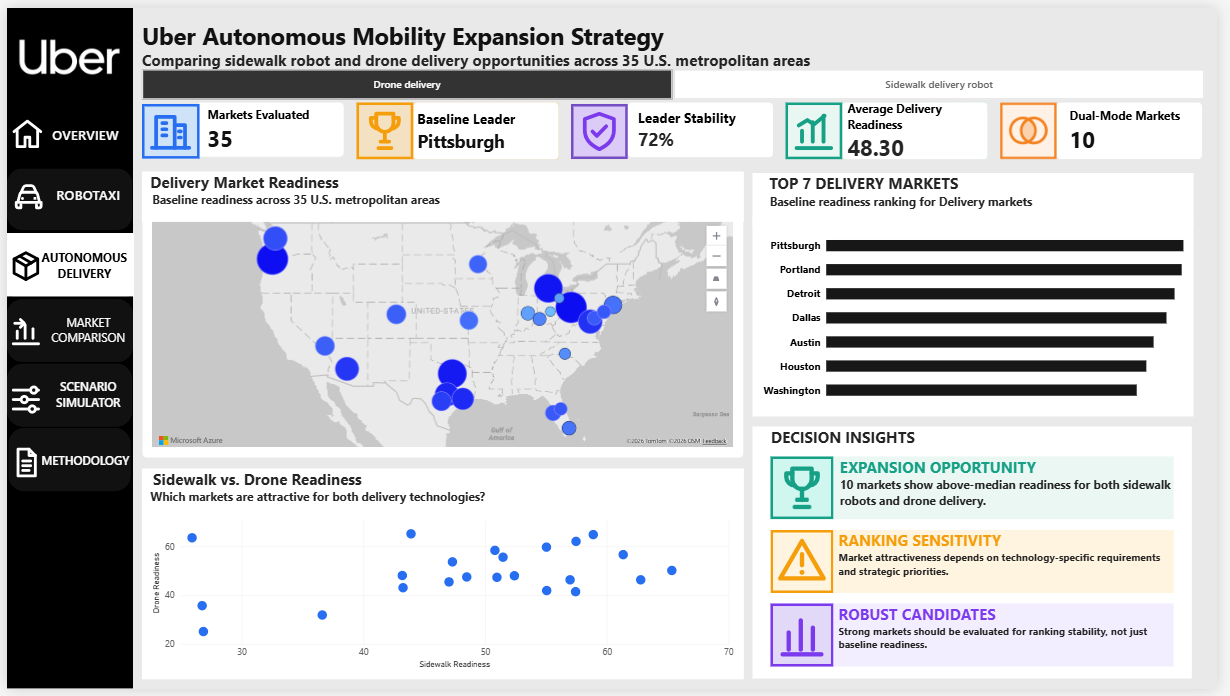

This screenshot's page, from the dashboard's own definition file:
{"tool":"powerbi","page":{"name":"Autonomous Delivery","canvas":[1920,1080],"ordinal":2},"visuals":[{"type":"shape","box":[0,150,198.7,100.8],"z":0},{"type":"image","box":[895,152.5,90.1,87.5],"z":0,"group":"g12"},{"type":"shape","box":[0,255,198.8,97.7],"z":0,"group":"g15"},{"type":"textbox","box":[1182.5,262.5,700,84.9],"z":0,"group":"g14"},{"type":"shape","box":[0,462.5,200,100],"z":0,"group":"g7"},{"type":"shape","box":[0,565,198.7,100.4],"z":0,"group":"g8"},{"type":"textbox","box":[1182.5,665,697.5,400],"z":0,"group":"g18"},{"type":"shape","box":[2.5,667.5,193.9,100.4],"z":0,"group":"g9"},{"type":"group","id":"g1","title":"Group 12","box":[1210,712.2,100,99.4],"z":0,"group":"g2"},{"type":"image","box":[1210,830,100,100],"z":0,"group":"g3"},{"type":"shape","box":[0,0,200,1080],"z":1000},{"type":"cardVisual","fields":{"Data":["_Measures.Robust Leader Top 5 Frequency"]},"box":[984.6,150,230.4,87.5],"z":1000,"group":"g12"},{"type":"cardVisual","fields":{"Data":["_Measures.Average Delivery Readiness"]},"box":[1325,150,230,90],"z":1000,"group":"g13"},{"type":"clusteredBarChart","fields":{"Category":["PBI_DIM_MARKET.MARKET_SHORT_NAME"],"Y":["_Measures.Selected Baseline Score"]},"box":[1182.5,330.4,700,317.1],"z":1000,"group":"g14"},{"type":"shape","box":[0,357.5,201.3,100.4],"z":1000,"group":"g16"},{"type":"group","id":"g2","title":"Group 13","box":[1210,712.2,640,99.4],"z":1000,"group":"g18"},{"type":"textbox","box":[1310,712.2,540,99.4],"z":1000,"group":"g2"},{"type":"textbox","box":[1310,830,540,100],"z":1000,"group":"g3"},{"type":"image","box":[1210,712.2,100,99.4],"z":2000,"group":"g1"},{"type":"textbox","box":[215,730,955,65],"z":2000},{"type":"group","id":"g3","title":"Group 14","box":[1210,830,640,100],"z":2000,"group":"g18"},{"type":"textbox","box":[215,0,1340,95],"z":3000},{"type":"image","box":[4.9,252.5,59.3,90],"z":3000,"group":"g15"},{"type":"group","id":"g4","title":"Group 19","box":[1210,945,640,100],"z":3000,"group":"g18"},{"type":"group","id":"g5","title":"Group 11","box":[955,147.5,845,66.7],"z":4000},{"type":"textbox","box":[215,47.5,1500,72.5],"z":5000},{"type":"cardVisual","fields":{"Data":["_Measures.Markets Evaluated"]},"box":[302.3,150,232.7,86.5],"z":5000,"group":"g20"},{"type":"cardVisual","fields":{"Data":["_Measures.Cross-Mode Opportunity"]},"box":[1666.2,150,230,90],"z":6000,"group":"g19"},{"type":"actionButton","box":[528.9,447.9,200,100],"z":6000},{"type":"slicer","fields":{"Values":["PBI_DIM_MODE.MODE_NAME"]},"box":[192.9,95.3,1727.1,52.2],"z":7000},{"type":"cardVisual","fields":{"Data":["_Measures.Robust Leader"]},"box":[645,150,230,90],"z":7000,"group":"g21"},{"type":"image","box":[0,0,200,165.6],"z":8000},{"type":"group","id":"g6","title":"Group 10","box":[1210,945,100,100],"z":8000,"group":"g4"},{"type":"actionButton","box":[0,145,200,100],"z":9000},{"type":"group","id":"g7","title":"Group 5","box":[0,462.5,200,100],"z":10000},{"type":"azureMap","fields":{"Size":["_Measures.Top 5 Frequency"],"X":["PBI_DIM_MARKET.LONGITUDE"],"Y":["PBI_DIM_MARKET.LATITUDE"]},"box":[215,320,955,395],"z":11000,"group":"g22"},{"type":"group","id":"g8","title":"Group 6","box":[0,565,198.7,102.4],"z":11000},{"type":"textbox","box":[215,260,955,80],"z":12000,"group":"g22"},{"type":"group","id":"g9","title":"Group 7","box":[0,667.5,202.5,100.4],"z":12000},{"type":"actionButton","box":[0,280,198.4,93.5],"z":13000},{"type":"actionButton","box":[0,372.5,198.4,93.5],"z":14000},{"type":"actionButton","box":[0,665,197.5,102.5],"z":15000},{"type":"actionButton","box":[0,567.5,199.7,95.3],"z":16000},{"type":"textbox","box":[60,185,130.4,37.8],"z":17000},{"type":"actionButton","box":[0,470,197.4,90.8],"z":18000},{"type":"group","id":"g10","title":"Group 15","box":[215,150,320,90],"z":19000},{"type":"group","id":"g11","title":"Group 17","box":[555,150,320,90],"z":20000},{"type":"textbox","box":[59.5,281.9,138.9,41.8],"z":20000,"group":"g15"},{"type":"textbox","box":[59.5,485.2,138.9,51],"z":20000,"group":"g7"},{"type":"textbox","box":[59.5,589.5,138.9,55.2],"z":20000,"group":"g8"},{"type":"textbox","box":[45,706.3,157.5,35],"z":20000,"group":"g9"},{"type":"group","id":"g12","title":"Group 18","box":[895,150,320,90],"z":21000},{"type":"textbox","box":[53.2,383.2,140.7,55.2],"z":21000,"group":"g16"},{"type":"image","box":[0,471,60,90],"z":21005,"group":"g7"},{"type":"image","box":[2.5,155,60,90],"z":22000},{"type":"group","id":"g13","title":"Group 1","box":[1235,150,320,90],"z":23000},{"type":"image","box":[1.2,577.4,60,90],"z":23001,"group":"g8"},{"type":"image","box":[0,676.3,60,90],"z":23001,"group":"g9"},{"type":"group","id":"g14","title":"Group 8","box":[1182.5,262.5,700,385],"z":24000},{"type":"scatterChart","fields":{"Category":["PBI_DIM_MARKET.MARKET_SHORT_NAME"],"X":["_Measures.Sidewalk Readiness"],"Y":["_Measures.Drone Readiness"]},"box":[215,792.5,955,272.5],"z":25000},{"type":"group","id":"g15","title":"Group 4","box":[0,252.5,200,100],"z":26000},{"type":"group","id":"g16","title":"Group 3","box":[0,357.5,201.3,100.4],"z":27000},{"type":"group","id":"g17","title":"Group 2","box":[215,260,955,455],"z":28000},{"type":"group","id":"g18","title":"Group 22","box":[1182.5,665,697.5,400],"z":29000},{"type":"group","id":"g19","title":"Group 16","box":[1575,150,321.2,90],"z":30000},{"type":"actionButton","box":[0,254.8,200,92.9],"z":30001},{"type":"image","box":[215,153.5,91.1,86.5],"z":31002,"group":"g20"},{"type":"image","box":[555,150,90,90],"z":31004,"group":"g21"},{"type":"group","id":"g20","title":"Group 21","box":[215,150,320,90],"z":31015,"group":"g10"},{"type":"group","id":"g21","title":"Group 20","box":[555,150,320,90],"z":31015,"group":"g11"},{"type":"image","box":[0,364.3,60,90],"z":33000,"group":"g16"},{"type":"group","id":"g22","title":"Group 9","box":[215,260,955,455],"z":33003,"group":"g17"},{"type":"image","box":[1210,945,100,100],"z":35000,"group":"g6"},{"type":"textbox","box":[955,147.5,845,66.7],"z":35003,"group":"g5"},{"type":"textbox","box":[1310,945,540,100],"z":35006,"group":"g4"},{"type":"image","box":[1575,150,90,90],"z":35009,"group":"g19"},{"type":"image","box":[1235,150,90,90],"z":37002,"group":"g13"}]}

Visuals, with their boxes on the page's 1920x1080 design canvas (x1, y1, x2, y2). These are canvas units, not pixel positions in the 1230x696 screenshot, which may show the page scaled, cropped or inside an application window:
shape: pyautogui.locateOnScreen(0, 150, 199, 251)
image: pyautogui.locateOnScreen(895, 152, 985, 240)
shape: pyautogui.locateOnScreen(0, 255, 199, 353)
textbox: pyautogui.locateOnScreen(1182, 262, 1882, 347)
shape: pyautogui.locateOnScreen(0, 462, 200, 562)
shape: pyautogui.locateOnScreen(0, 565, 199, 665)
textbox: pyautogui.locateOnScreen(1182, 665, 1880, 1065)
shape: pyautogui.locateOnScreen(2, 668, 196, 768)
"Group 12" group: pyautogui.locateOnScreen(1210, 712, 1310, 812)
image: pyautogui.locateOnScreen(1210, 830, 1310, 930)
shape: pyautogui.locateOnScreen(0, 0, 200, 1080)
cardVisual - _Measures.Robust Leader Top 5 Frequency: pyautogui.locateOnScreen(985, 150, 1215, 238)
cardVisual - _Measures.Average Delivery Readiness: pyautogui.locateOnScreen(1325, 150, 1555, 240)
clusteredBarChart - PBI_DIM_MARKET.MARKET_SHORT_NAME x _Measures.Selected Baseline Score: pyautogui.locateOnScreen(1182, 330, 1882, 648)
shape: pyautogui.locateOnScreen(0, 358, 201, 458)
"Group 13" group: pyautogui.locateOnScreen(1210, 712, 1850, 812)
textbox: pyautogui.locateOnScreen(1310, 712, 1850, 812)
textbox: pyautogui.locateOnScreen(1310, 830, 1850, 930)
image: pyautogui.locateOnScreen(1210, 712, 1310, 812)
textbox: pyautogui.locateOnScreen(215, 730, 1170, 795)
"Group 14" group: pyautogui.locateOnScreen(1210, 830, 1850, 930)
textbox: pyautogui.locateOnScreen(215, 0, 1555, 95)
image: pyautogui.locateOnScreen(5, 252, 64, 342)
"Group 19" group: pyautogui.locateOnScreen(1210, 945, 1850, 1045)
"Group 11" group: pyautogui.locateOnScreen(955, 148, 1800, 214)
textbox: pyautogui.locateOnScreen(215, 48, 1715, 120)
cardVisual - _Measures.Markets Evaluated: pyautogui.locateOnScreen(302, 150, 535, 236)
cardVisual - _Measures.Cross-Mode Opportunity: pyautogui.locateOnScreen(1666, 150, 1896, 240)
actionButton: pyautogui.locateOnScreen(529, 448, 729, 548)
slicer - PBI_DIM_MODE.MODE_NAME: pyautogui.locateOnScreen(193, 95, 1920, 148)
cardVisual - _Measures.Robust Leader: pyautogui.locateOnScreen(645, 150, 875, 240)
image: pyautogui.locateOnScreen(0, 0, 200, 166)
"Group 10" group: pyautogui.locateOnScreen(1210, 945, 1310, 1045)
actionButton: pyautogui.locateOnScreen(0, 145, 200, 245)
"Group 5" group: pyautogui.locateOnScreen(0, 462, 200, 562)
azureMap - _Measures.Top 5 Frequency x PBI_DIM_MARKET.LONGITUDE: pyautogui.locateOnScreen(215, 320, 1170, 715)
"Group 6" group: pyautogui.locateOnScreen(0, 565, 199, 667)
textbox: pyautogui.locateOnScreen(215, 260, 1170, 340)
"Group 7" group: pyautogui.locateOnScreen(0, 668, 202, 768)
actionButton: pyautogui.locateOnScreen(0, 280, 198, 374)
actionButton: pyautogui.locateOnScreen(0, 372, 198, 466)
actionButton: pyautogui.locateOnScreen(0, 665, 198, 768)
actionButton: pyautogui.locateOnScreen(0, 568, 200, 663)
textbox: pyautogui.locateOnScreen(60, 185, 190, 223)
actionButton: pyautogui.locateOnScreen(0, 470, 197, 561)
"Group 15" group: pyautogui.locateOnScreen(215, 150, 535, 240)
"Group 17" group: pyautogui.locateOnScreen(555, 150, 875, 240)
textbox: pyautogui.locateOnScreen(60, 282, 198, 324)
textbox: pyautogui.locateOnScreen(60, 485, 198, 536)
textbox: pyautogui.locateOnScreen(60, 590, 198, 645)
textbox: pyautogui.locateOnScreen(45, 706, 202, 741)
"Group 18" group: pyautogui.locateOnScreen(895, 150, 1215, 240)
textbox: pyautogui.locateOnScreen(53, 383, 194, 438)
image: pyautogui.locateOnScreen(0, 471, 60, 561)
image: pyautogui.locateOnScreen(2, 155, 62, 245)
"Group 1" group: pyautogui.locateOnScreen(1235, 150, 1555, 240)
image: pyautogui.locateOnScreen(1, 577, 61, 667)
image: pyautogui.locateOnScreen(0, 676, 60, 766)
"Group 8" group: pyautogui.locateOnScreen(1182, 262, 1882, 648)
scatterChart - PBI_DIM_MARKET.MARKET_SHORT_NAME x _Measures.Sidewalk Readiness: pyautogui.locateOnScreen(215, 792, 1170, 1065)
"Group 4" group: pyautogui.locateOnScreen(0, 252, 200, 352)
"Group 3" group: pyautogui.locateOnScreen(0, 358, 201, 458)
"Group 2" group: pyautogui.locateOnScreen(215, 260, 1170, 715)
"Group 22" group: pyautogui.locateOnScreen(1182, 665, 1880, 1065)
"Group 16" group: pyautogui.locateOnScreen(1575, 150, 1896, 240)
actionButton: pyautogui.locateOnScreen(0, 255, 200, 348)
image: pyautogui.locateOnScreen(215, 154, 306, 240)
image: pyautogui.locateOnScreen(555, 150, 645, 240)
"Group 21" group: pyautogui.locateOnScreen(215, 150, 535, 240)
"Group 20" group: pyautogui.locateOnScreen(555, 150, 875, 240)
image: pyautogui.locateOnScreen(0, 364, 60, 454)
"Group 9" group: pyautogui.locateOnScreen(215, 260, 1170, 715)
image: pyautogui.locateOnScreen(1210, 945, 1310, 1045)
textbox: pyautogui.locateOnScreen(955, 148, 1800, 214)
textbox: pyautogui.locateOnScreen(1310, 945, 1850, 1045)
image: pyautogui.locateOnScreen(1575, 150, 1665, 240)
image: pyautogui.locateOnScreen(1235, 150, 1325, 240)
